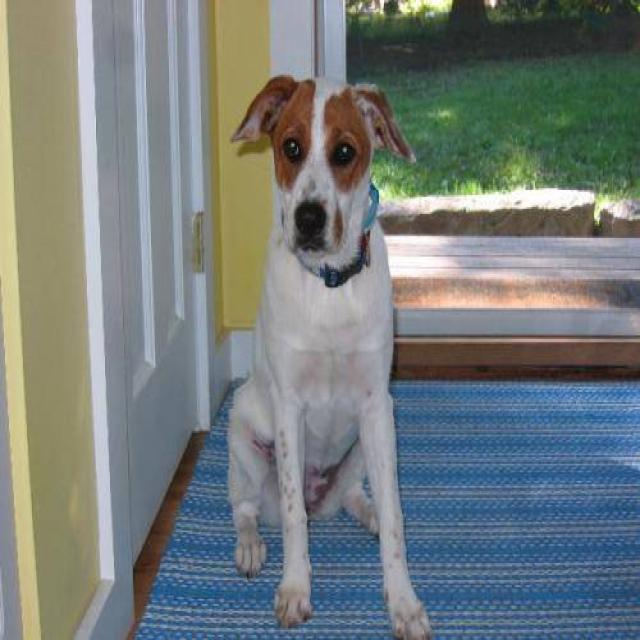dog: (225, 72, 434, 638)
